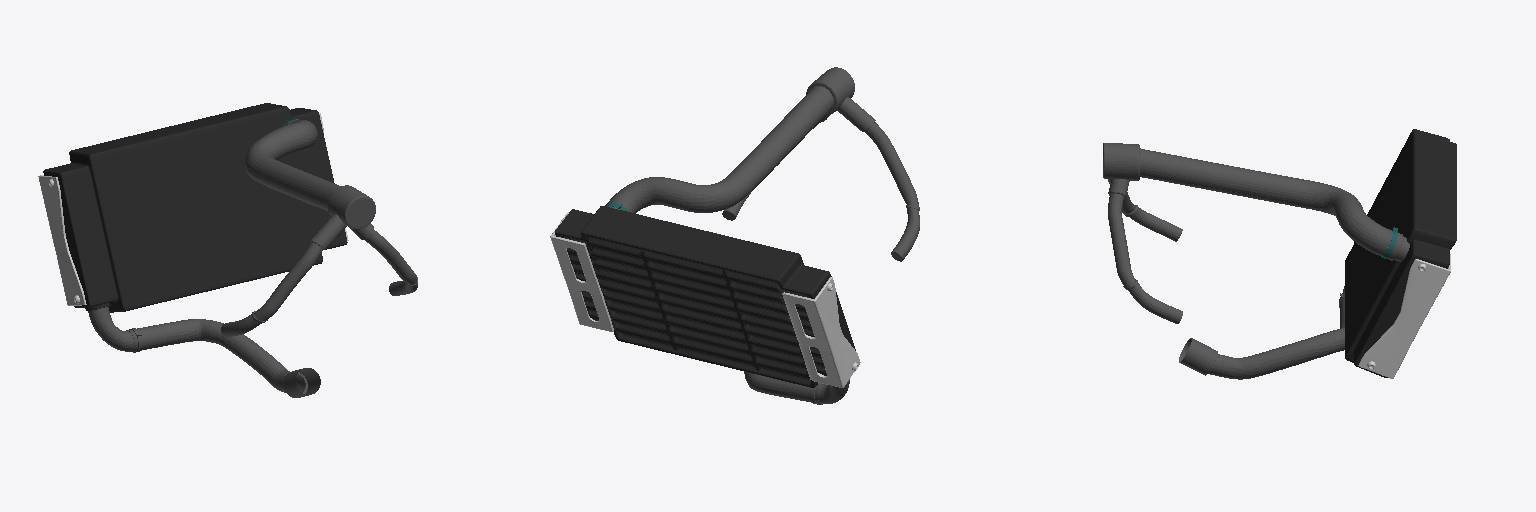
The model's file is CB400SF_Radiator.obj.
3 views of the same model, side by side, from view 1: azimuth 30°, elevation 25°; view 2: azimuth 150°, elevation 25°; view 3: azimuth 270°, elevation 25° (orthographic).
Visible parts, largest first — view 1: Homut_Radiator; view 2: Homut_Radiator; view 3: Homut_Radiator.
Part boxes in pixels (left/top/right/bottom): Homut_Radiator: left=38, top=103, right=417, bottom=397; Homut_Radiator: left=550, top=67, right=919, bottom=404; Homut_Radiator: left=1103, top=129, right=1456, bottom=379.
Size of the model in its own units: 44.6 by 37.78 by 50.53.